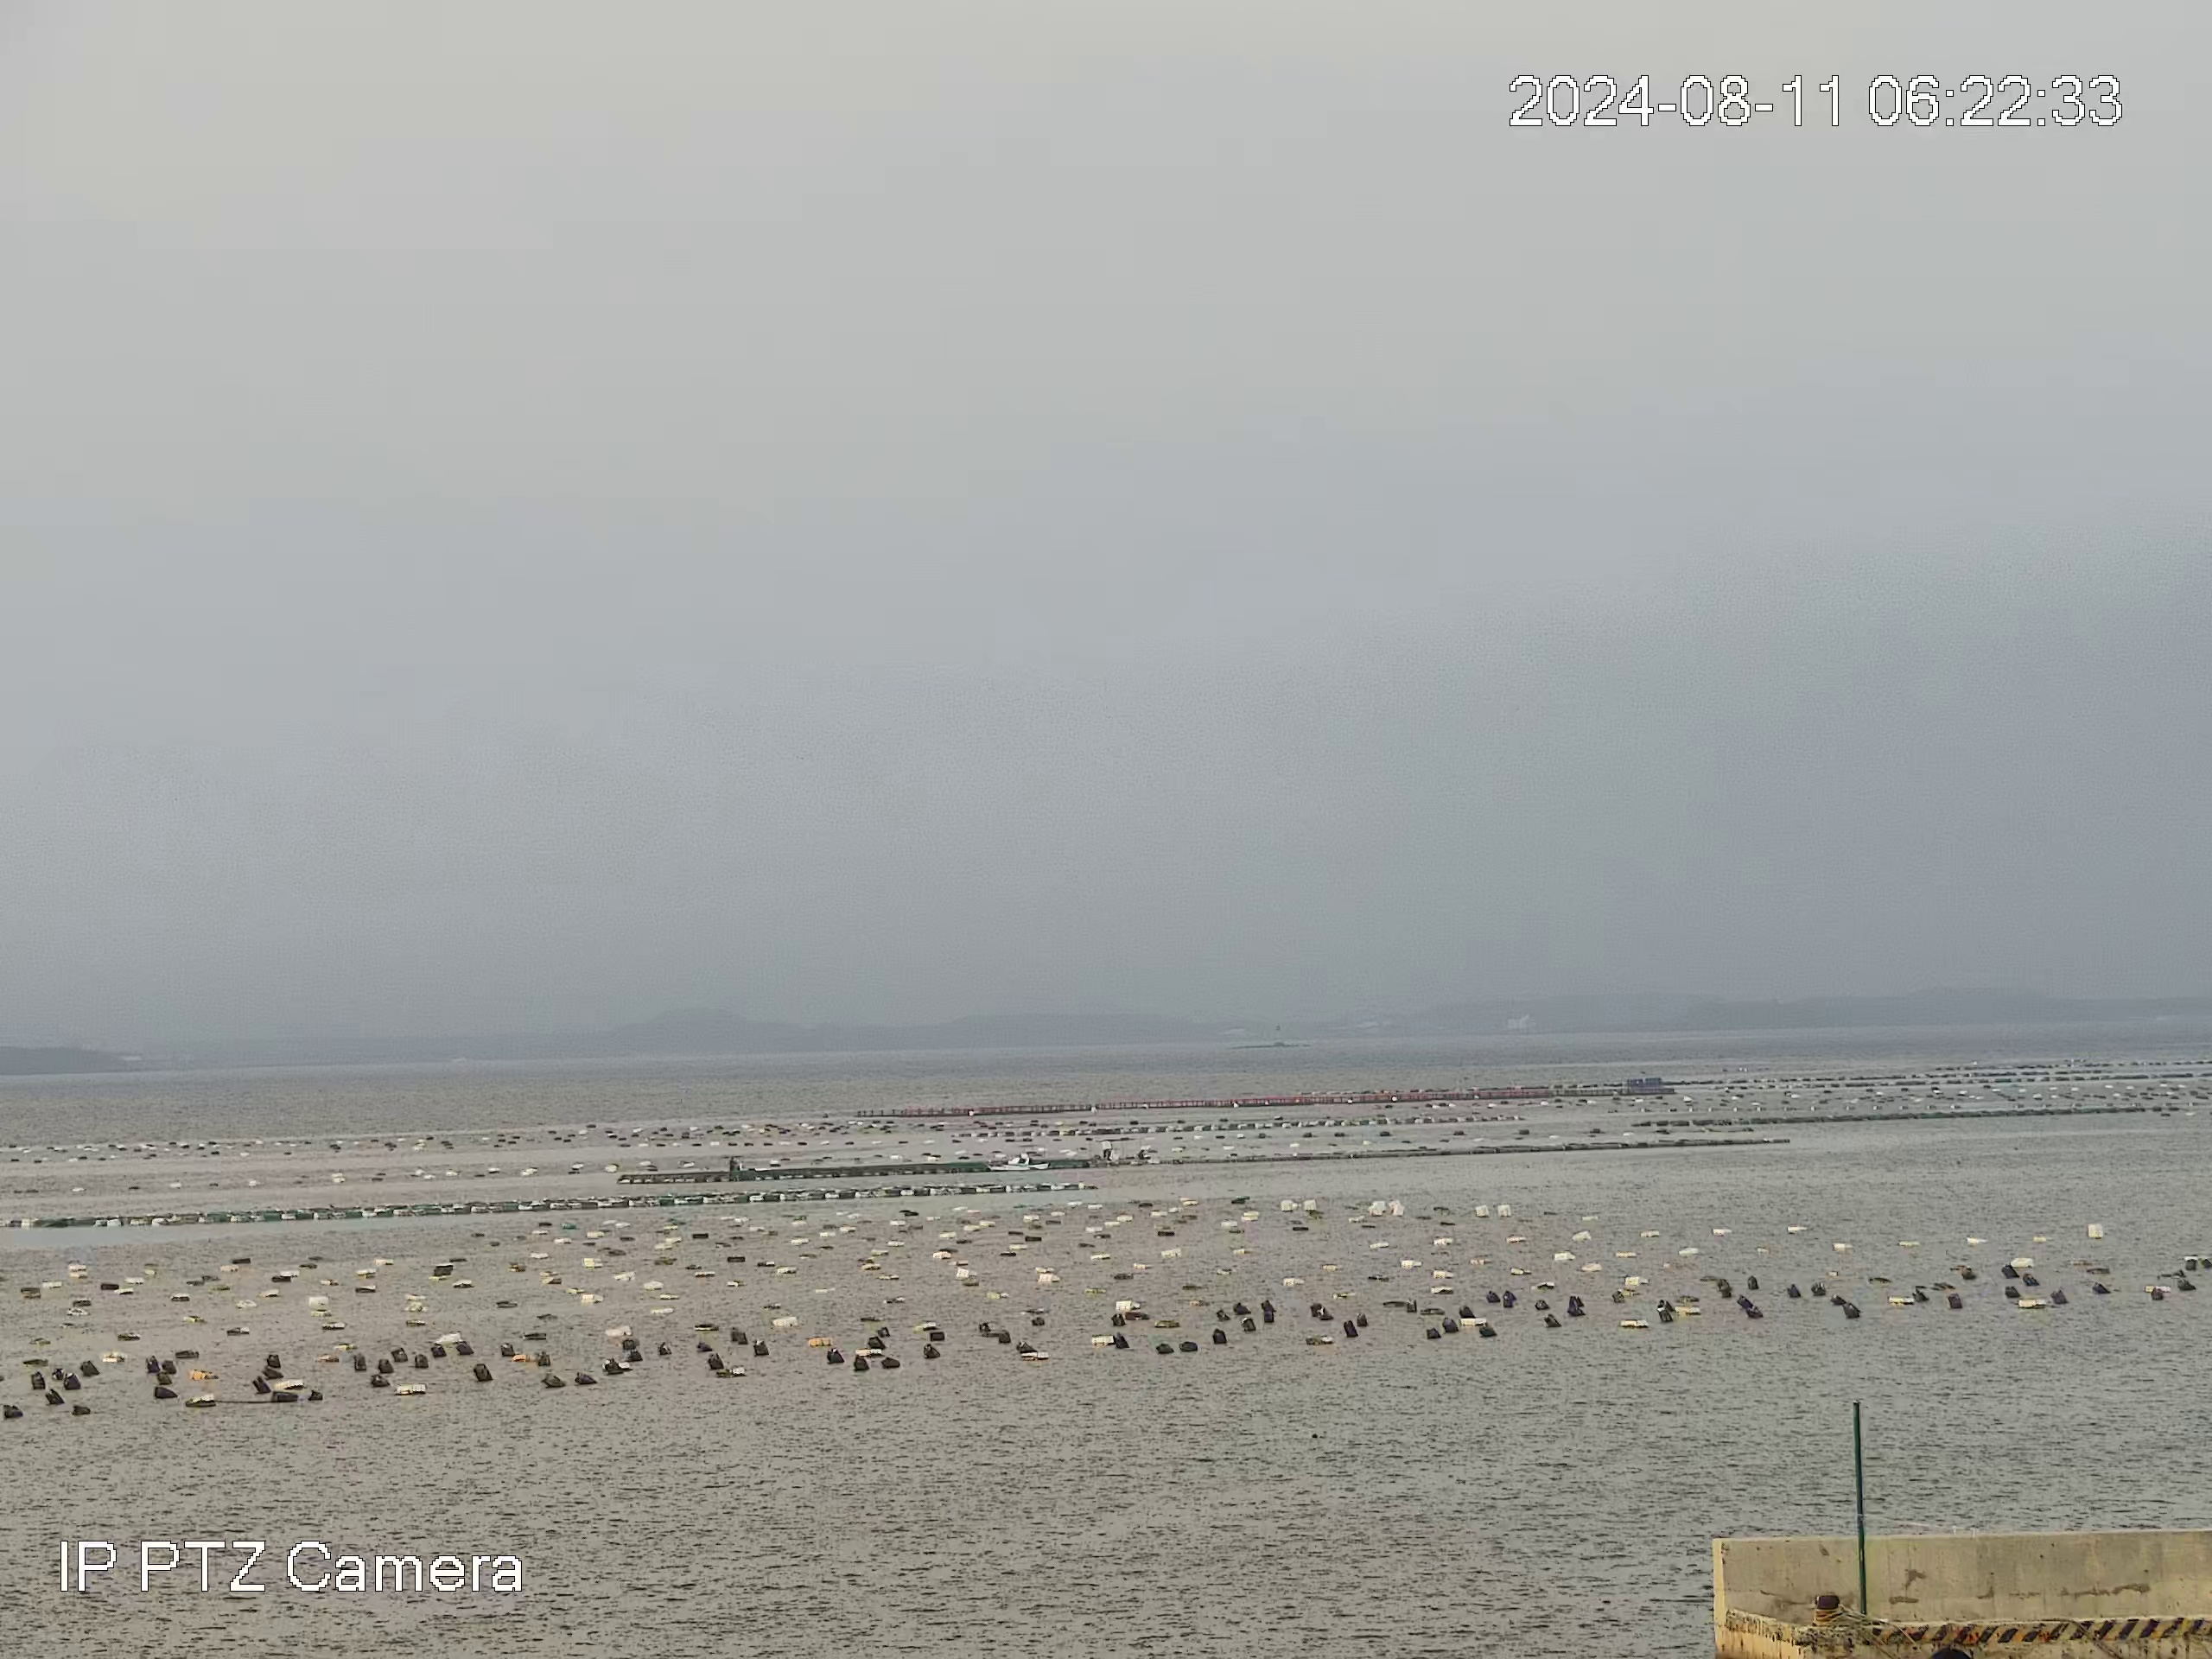boat: (984, 1150, 1050, 1171)
